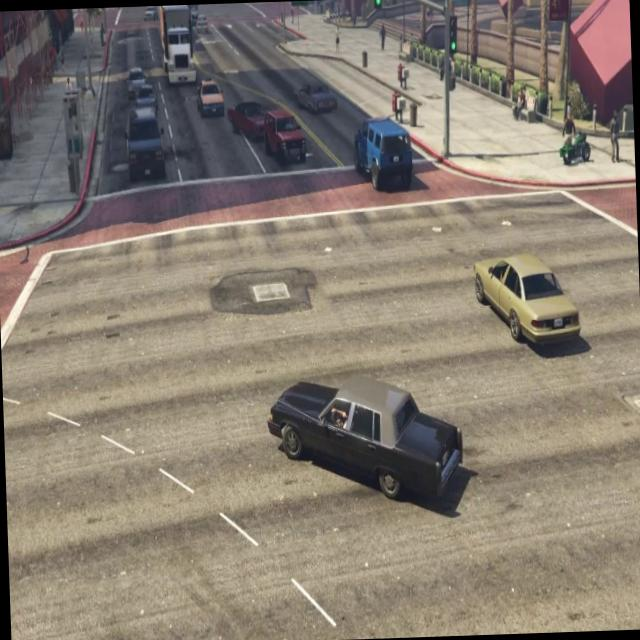Green-Signal: (446, 6, 460, 65), (286, 0, 313, 16), (370, 0, 386, 17)
